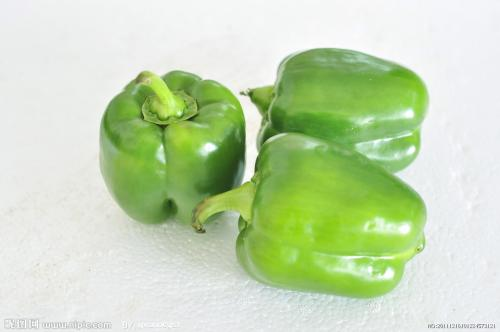fruit_pepper: (191, 131, 431, 300), (92, 66, 245, 231), (247, 41, 434, 176)
